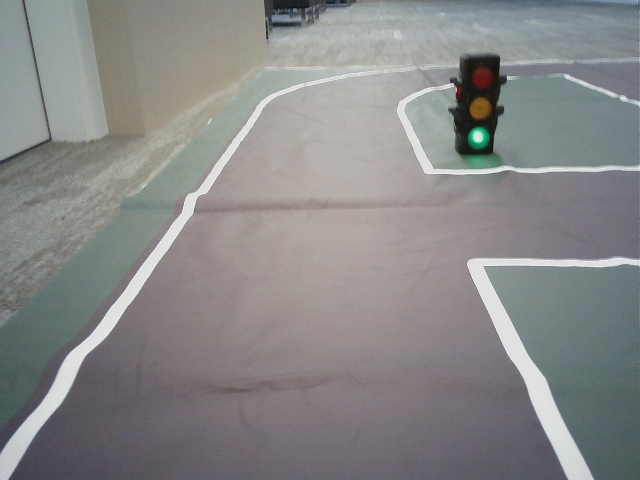green: (461, 60, 499, 149)
